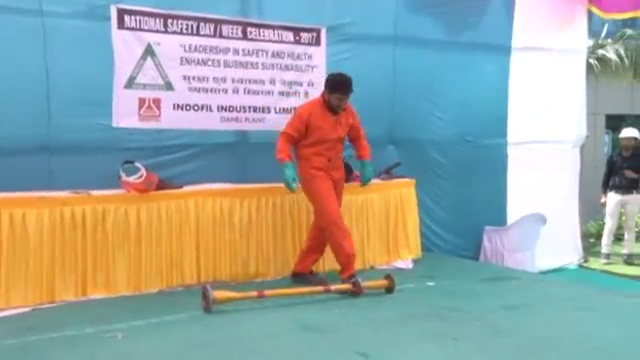helmet: (617, 126, 640, 140)
helmet_off: (325, 70, 355, 114)
helmet_on: (616, 125, 640, 158)
person: (281, 70, 373, 285), (596, 125, 637, 270)
